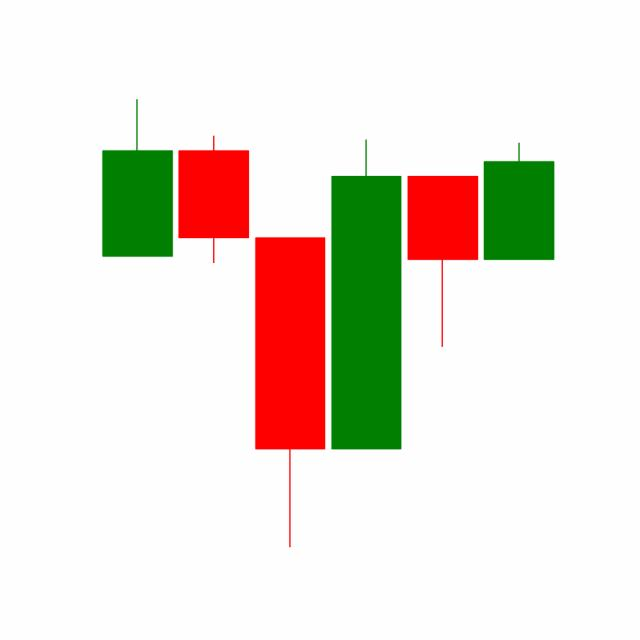Hammer: (403, 173, 481, 349)
